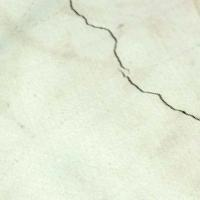crack: (69, 0, 199, 124)
